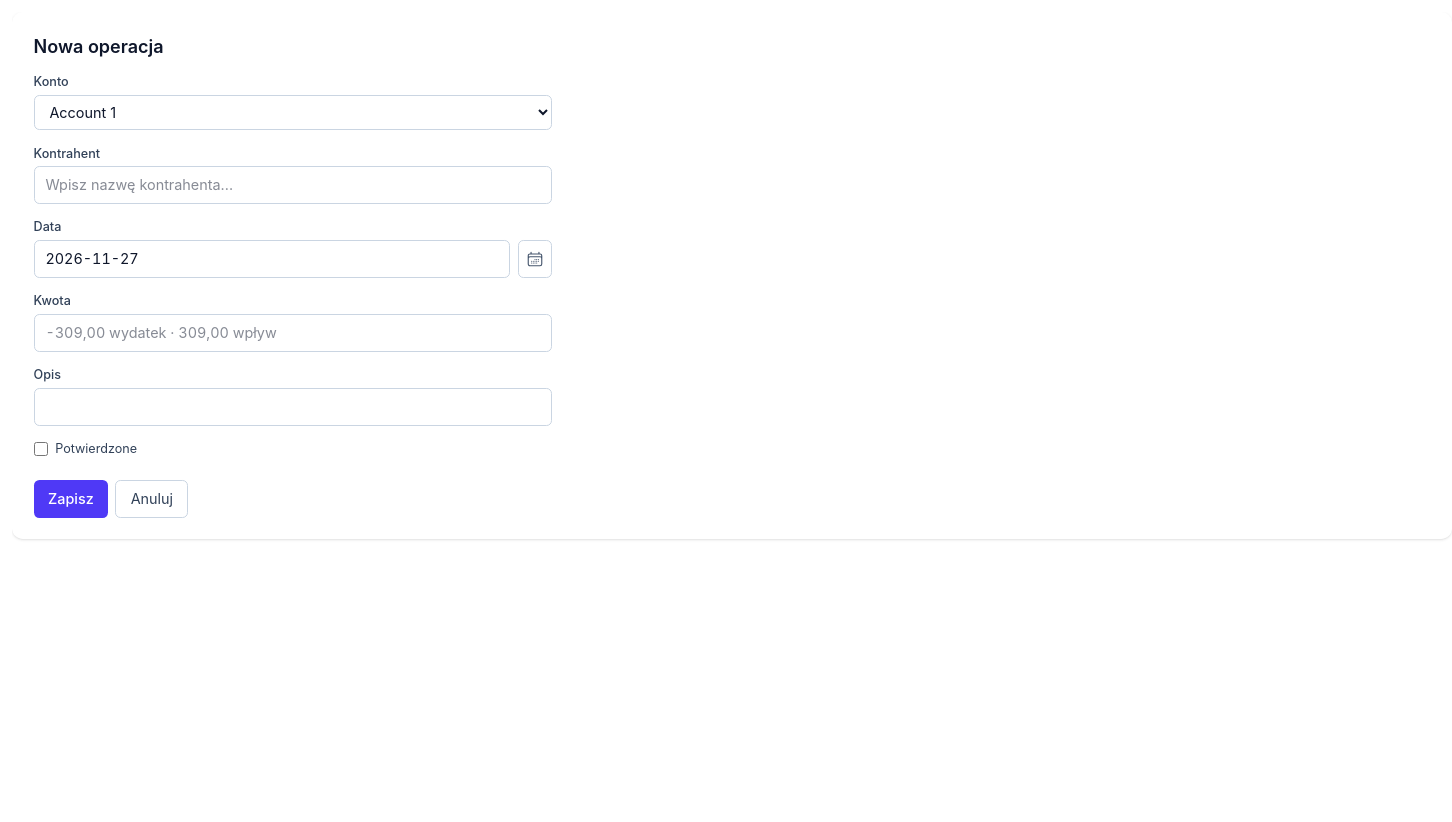
Test case: NewOperationPage › sends a new contractor by its name, and no description as null
The image size is (1452, 822).
Expected: the dropdown labelled "Konto" is shown, [34,95,552,130]
Type "Bakery" into the dropdown labelled "Kontrahent" at (293, 185), box [34,166,552,204]
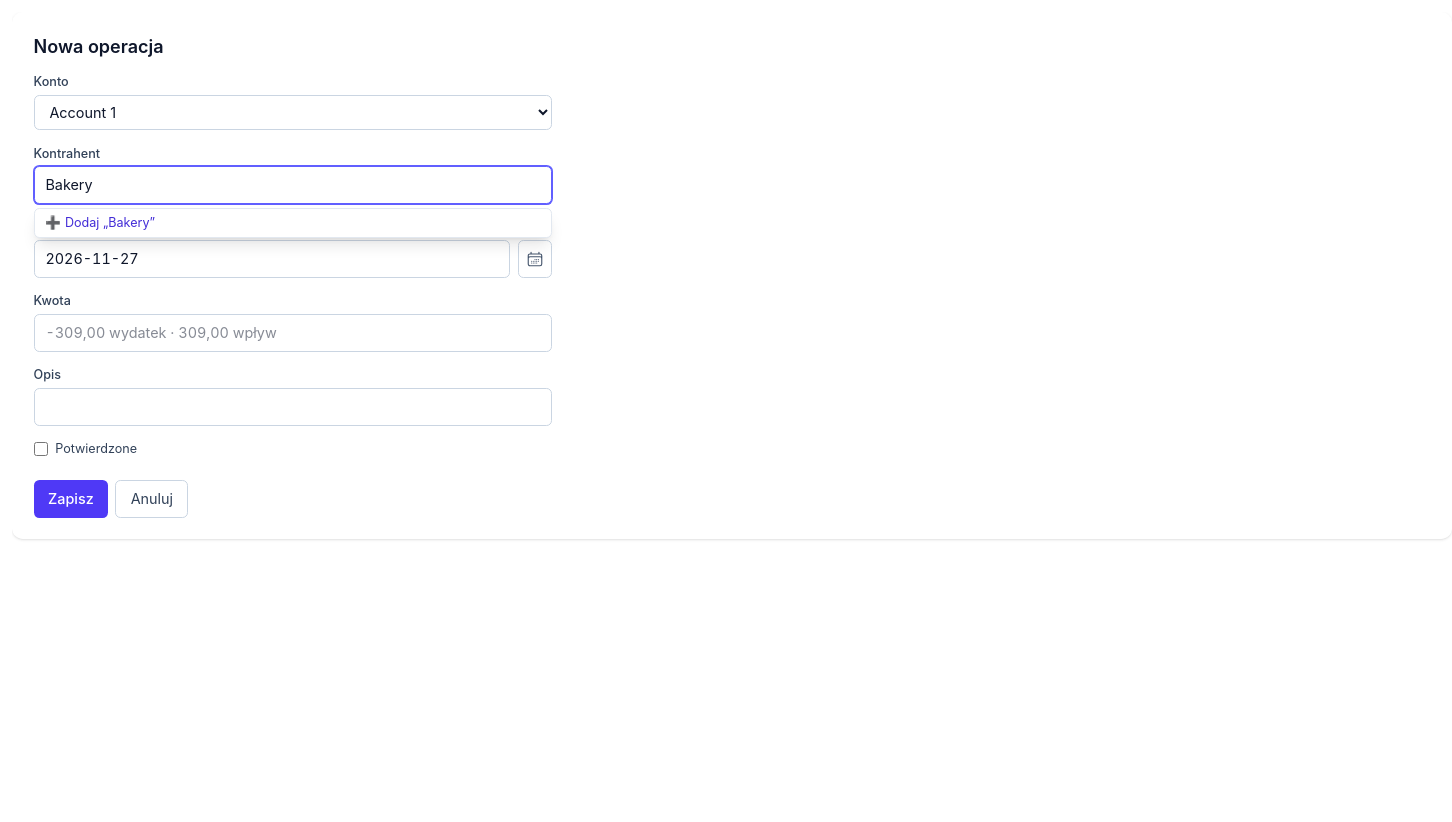
Click the option "➕ Dodaj „Bakery”" at (100, 222), box [45,215,155,230]
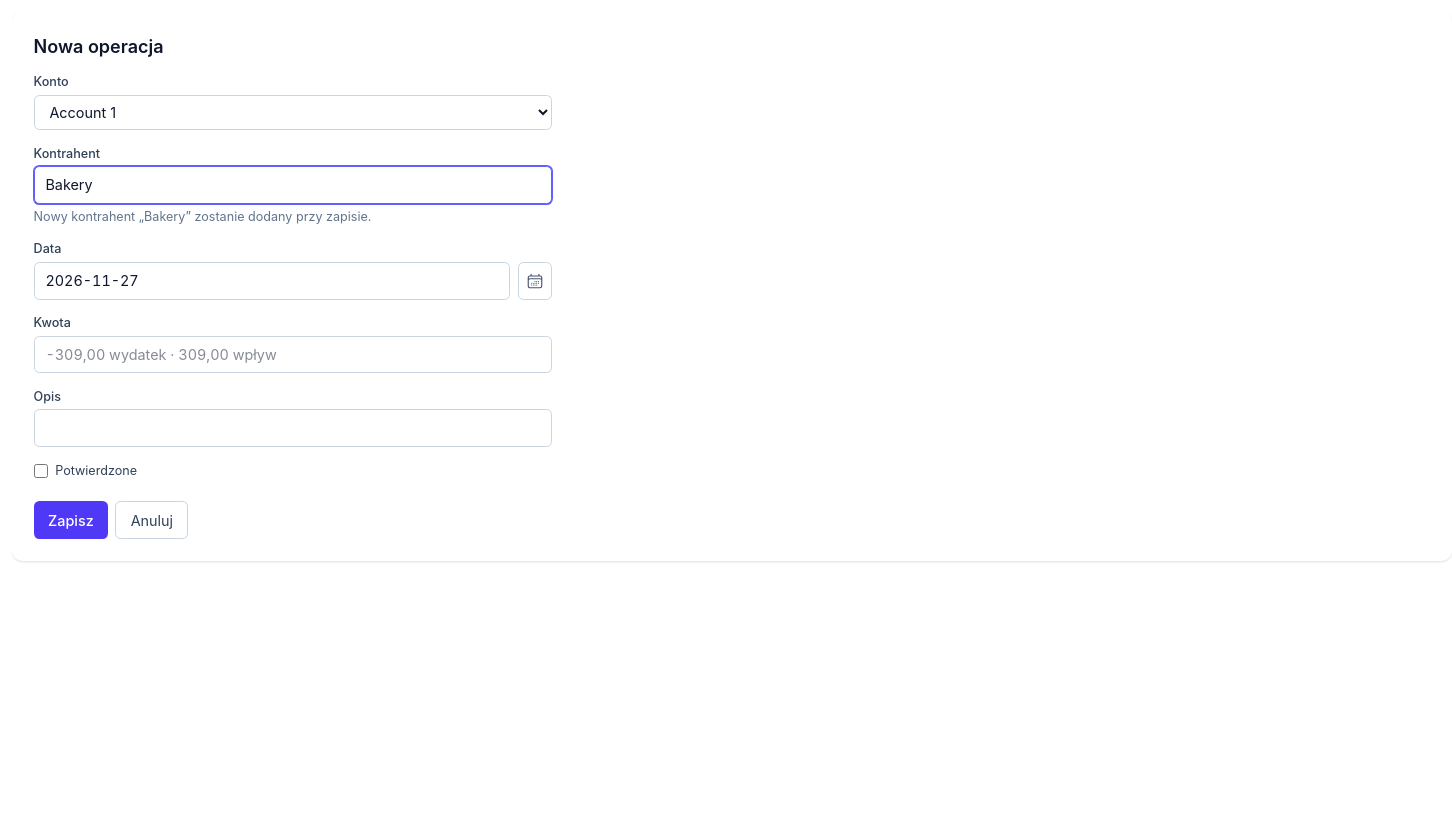
Type "-3,20" into the field labelled "Kwota" at (293, 354), box [34,336,552,374]
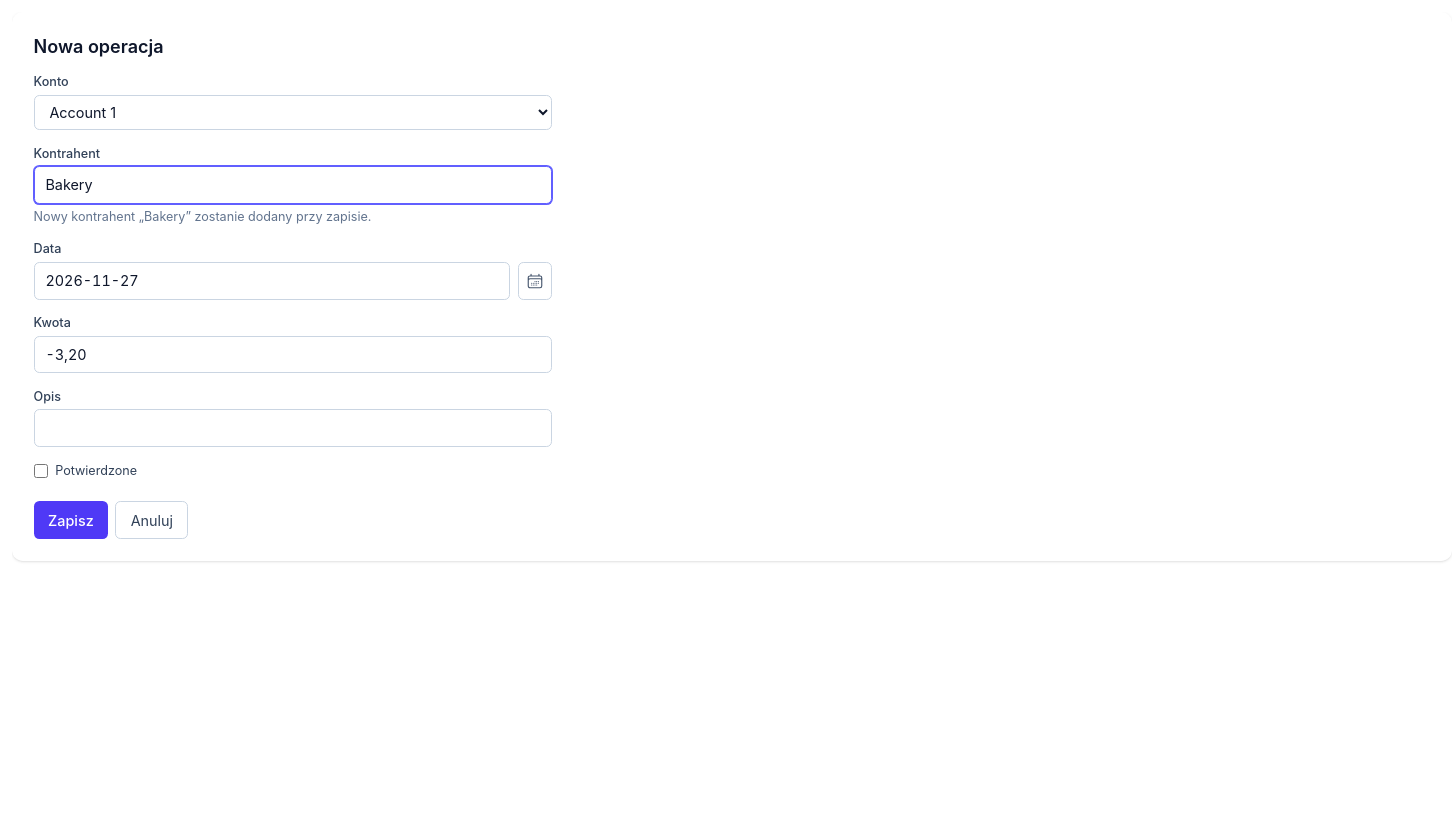
Click the button "Zapisz" at (71, 520), box [34,501,108,539]
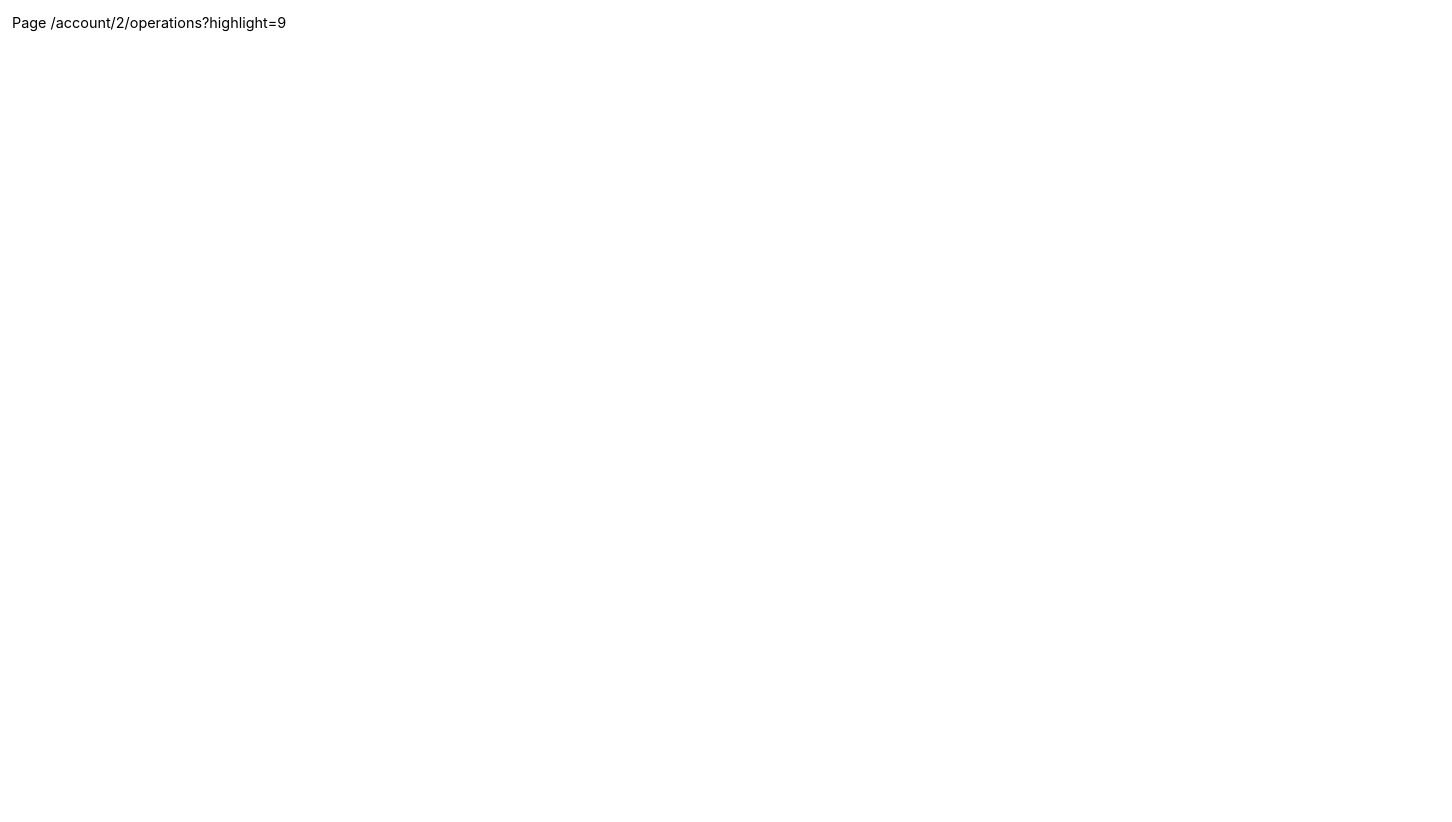
Expected: the text "Page /account/2/operations?highlight=9" is shown, [12,14,286,31]
